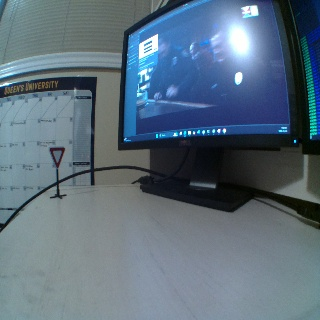sign_yield: (48, 148, 66, 168)
